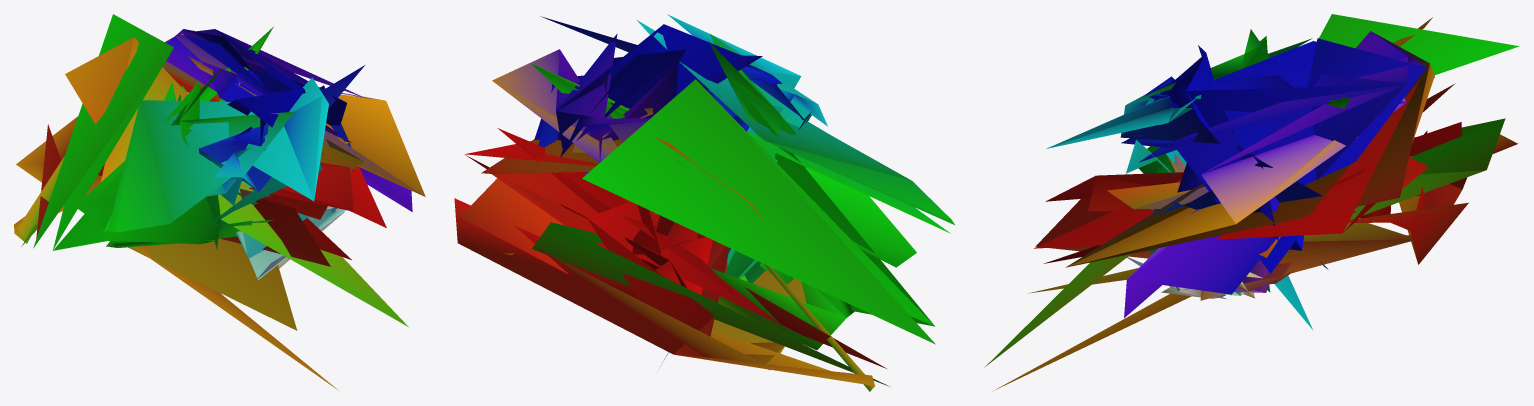
The model's file is zeometry-fragments-ruins-shard-cluster_v7.glb.
3 renders of one model, left to right at view 1: azimuth 30°, elevation 25°; view 2: azimuth 150°, elevation 25°; view 3: azimuth 270°, elevation 25°, orthographic. The views are drawn at different scales.
Parts seen in each view (by area): view 1: Shard Cluster_v7; view 2: Shard Cluster_v7; view 3: Shard Cluster_v7.
Part boxes in pixels (x1=…): Shard Cluster_v7: x1=14, y1=14, x2=425, y2=390; Shard Cluster_v7: x1=454, y1=14, x2=954, y2=391; Shard Cluster_v7: x1=984, y1=14, x2=1519, y2=391.
Bounding box in the file's own units: 0.4786 × 0.3674 × 0.5.
